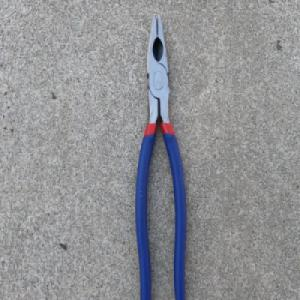Pliers: (133, 10, 188, 300)
